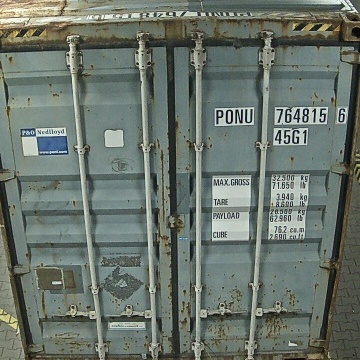serial_id: (215, 108, 347, 125)
